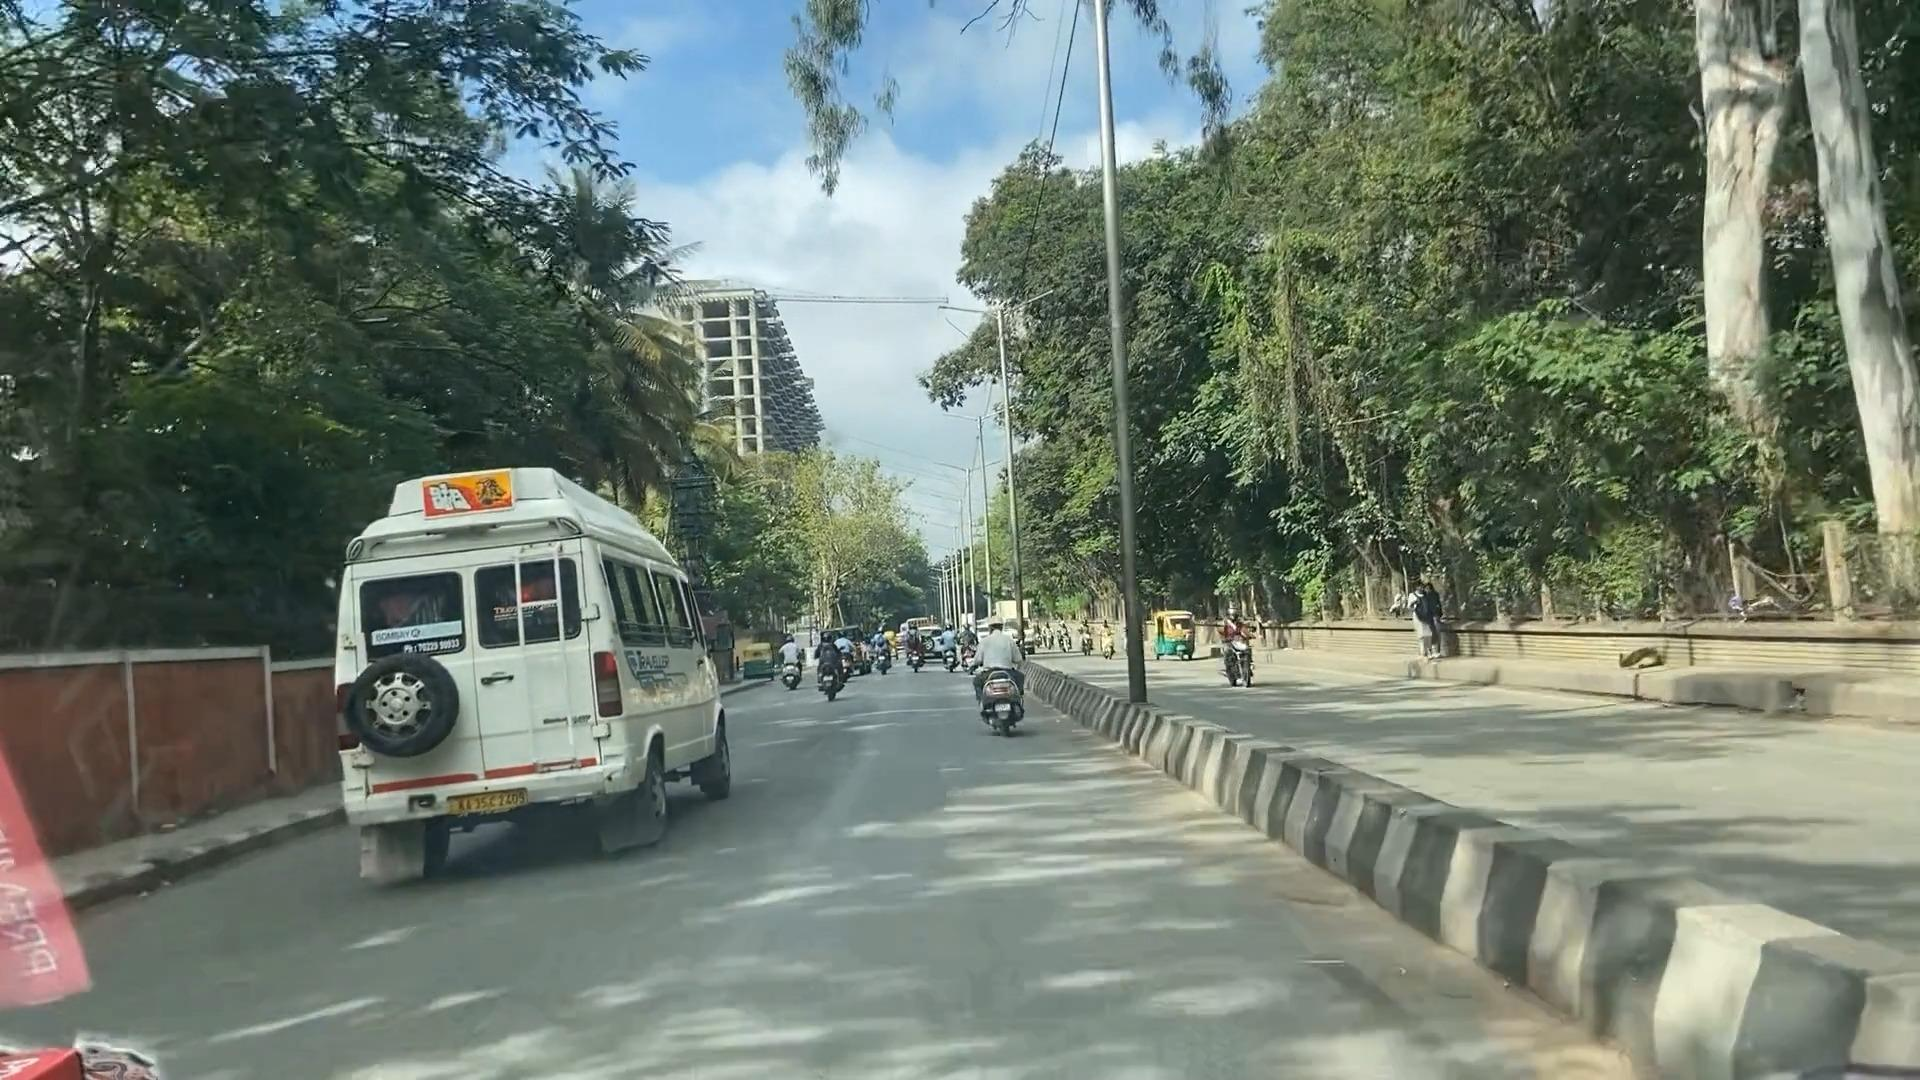HMV: (332, 546, 622, 843)
LMV: (956, 608, 1030, 736), (814, 618, 849, 708)
